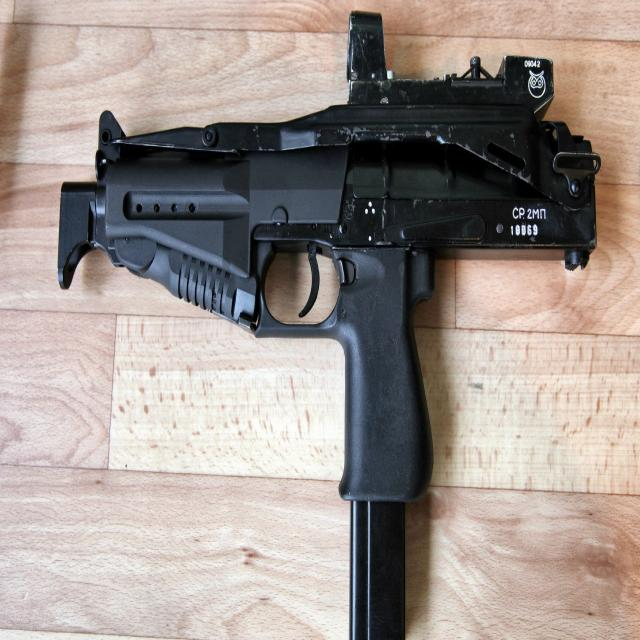firearm: (57, 10, 601, 640)
